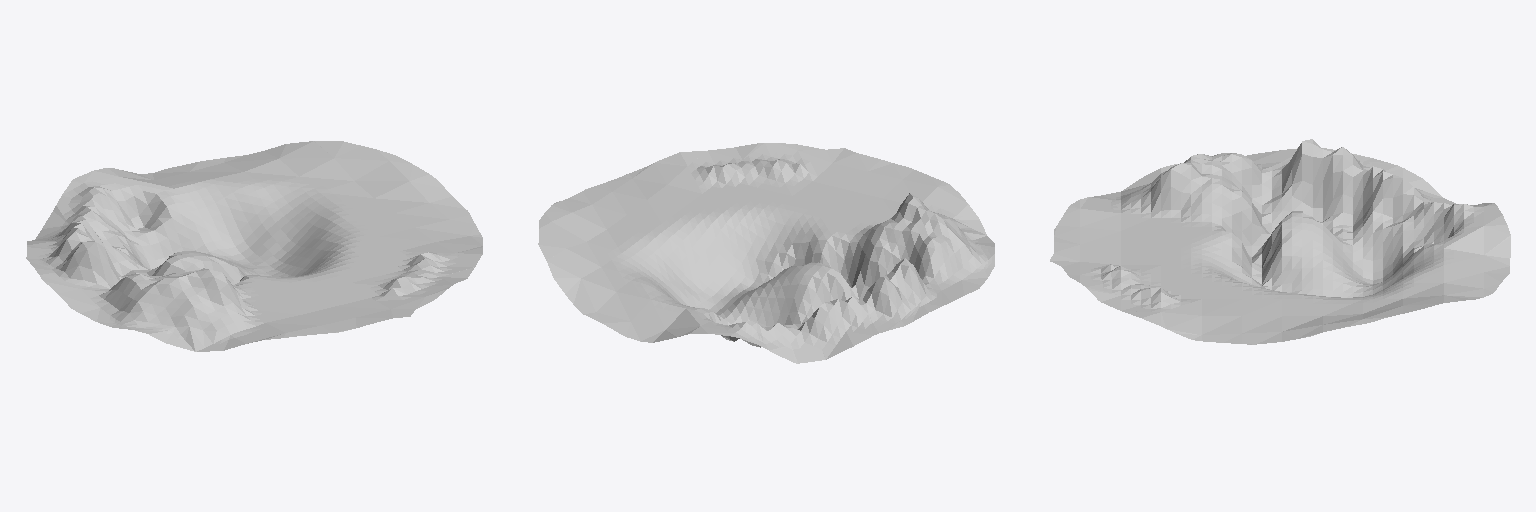
Rendered from island_plane.obj.
The picture shows the model from 3 angles: view 1: azimuth 30°, elevation 25°; view 2: azimuth 150°, elevation 25°; view 3: azimuth 270°, elevation 25°; orthographic projection.
Visible parts, largest first — view 1: Mesh1 Model; view 2: Mesh1 Model; view 3: Mesh1 Model.
Part boxes in pixels (bbox=[...]): Mesh1 Model: bbox=[26, 141, 482, 351]; Mesh1 Model: bbox=[538, 143, 994, 363]; Mesh1 Model: bbox=[1050, 139, 1510, 344].
Size of the model in its own units: 33.94 by 7.53 by 34.28.